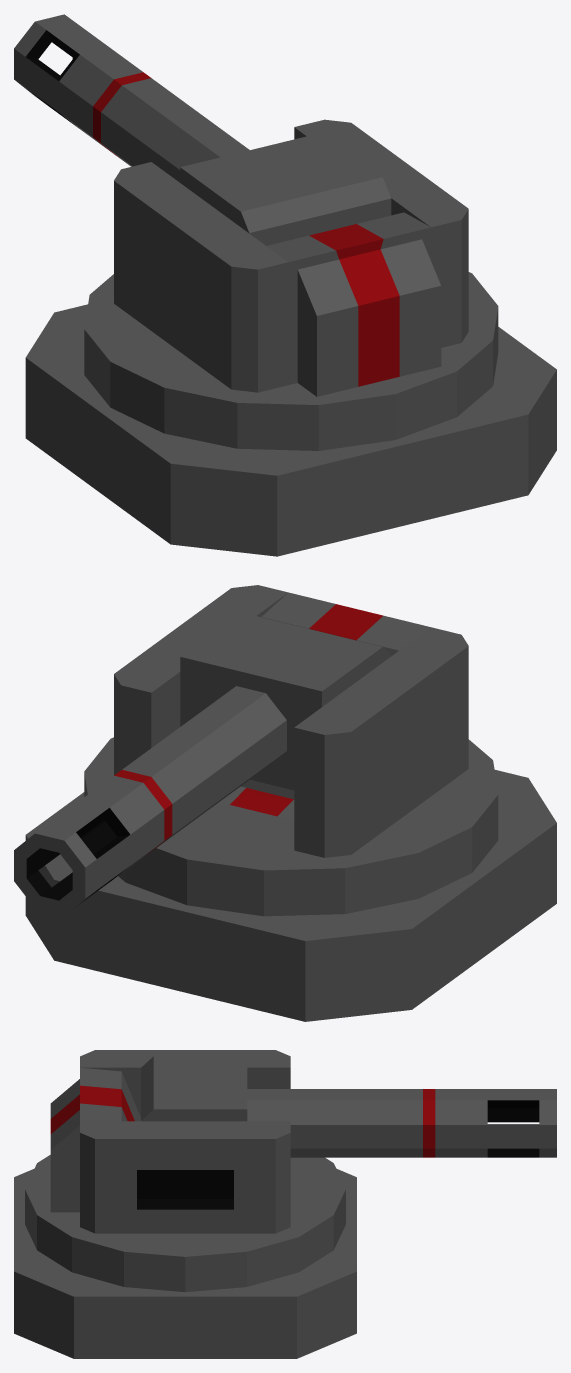
Rendered from Turret MK1.glb.
The picture shows the model from 3 angles, top to bottom: view 1: azimuth 30°, elevation 25°; view 2: azimuth 150°, elevation 25°; view 3: azimuth 270°, elevation 25°; orthographic projection. The views are drawn at different scales.
Visible parts, largest first — view 1: Turret, Base, TurnTable, Barrel, BarrelBase; view 2: Base, Turret, TurnTable, Barrel, BarrelBase; view 3: Turret, Base, TurnTable, Barrel, BarrelBase.
Boxes of the visible parts, x1,y1,x2,y2 form: Turret: [114, 119, 468, 396]; Base: [25, 304, 556, 556]; TurnTable: [84, 272, 498, 450]; Barrel: [14, 14, 249, 182]; BarrelBase: [180, 132, 391, 245]; Base: [25, 770, 556, 1021]; Turret: [114, 585, 468, 857]; TurnTable: [84, 737, 498, 916]; Barrel: [14, 686, 286, 915]; BarrelBase: [180, 612, 391, 799]; Turret: [50, 1050, 290, 1233]; Base: [14, 1168, 356, 1358]; TurnTable: [25, 1155, 345, 1292]; Barrel: [247, 1089, 556, 1157]; BarrelBase: [141, 1056, 247, 1121].
Bounding box in the file's own units: 1 × 0.6556 × 1.58.
